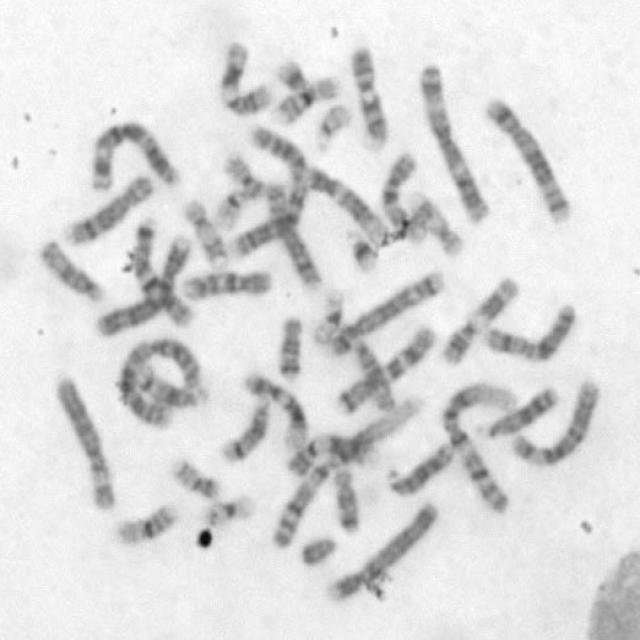A1: (266, 393, 424, 553), (438, 381, 518, 516)
A2: (232, 122, 306, 260), (118, 335, 202, 431)
A3: (417, 61, 493, 225), (87, 119, 184, 193)
B4: (323, 498, 442, 604), (94, 232, 192, 340)
B5: (483, 96, 578, 228), (327, 268, 445, 360)
C10: (379, 148, 425, 245), (179, 267, 277, 304)
C11: (440, 276, 520, 368), (216, 41, 273, 116)
C12: (299, 163, 386, 246), (241, 369, 309, 452)
C6: (49, 368, 119, 512), (510, 377, 600, 466)
C7: (331, 323, 439, 420), (134, 215, 194, 328)
C8: (64, 173, 156, 247), (265, 181, 324, 289)
C9: (282, 432, 383, 478), (351, 43, 388, 155)
D13: (475, 385, 559, 441), (386, 440, 455, 497)
D14: (216, 397, 271, 463), (134, 363, 207, 409)
D15: (38, 239, 108, 305), (351, 338, 398, 414)
E16: (271, 76, 342, 127), (111, 497, 182, 545)
E17: (403, 187, 467, 260), (182, 196, 230, 266)
E18: (273, 313, 303, 382), (332, 467, 363, 532)
F19: (308, 290, 344, 347), (200, 494, 256, 527)
F20: (170, 458, 221, 500), (222, 151, 265, 200)
G21: (341, 226, 382, 274), (271, 56, 314, 98)
G22: (312, 101, 349, 157), (212, 185, 251, 232)
X: (483, 302, 580, 364)
Y: (298, 536, 337, 566)
